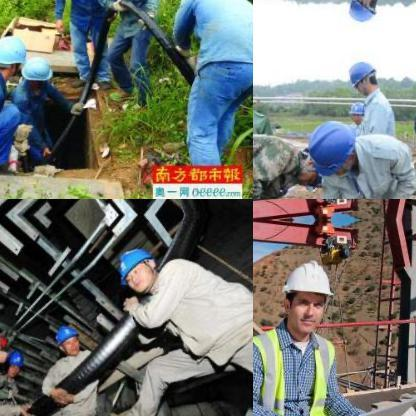Helmet: (280, 256, 336, 334), (302, 116, 358, 176), (113, 244, 159, 290), (344, 56, 378, 94), (0, 31, 25, 79), (22, 55, 50, 89), (53, 321, 81, 353), (344, 0, 379, 25), (346, 100, 367, 126), (4, 348, 22, 378), (0, 326, 8, 355)
